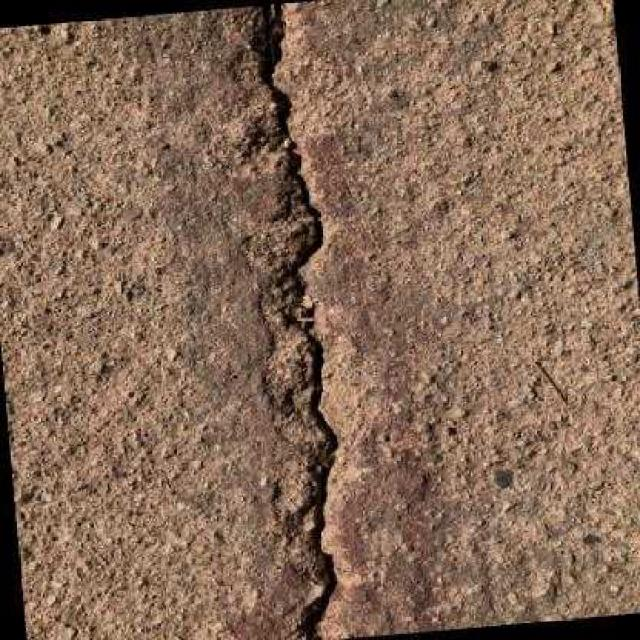D00: (262, 2, 338, 640)
